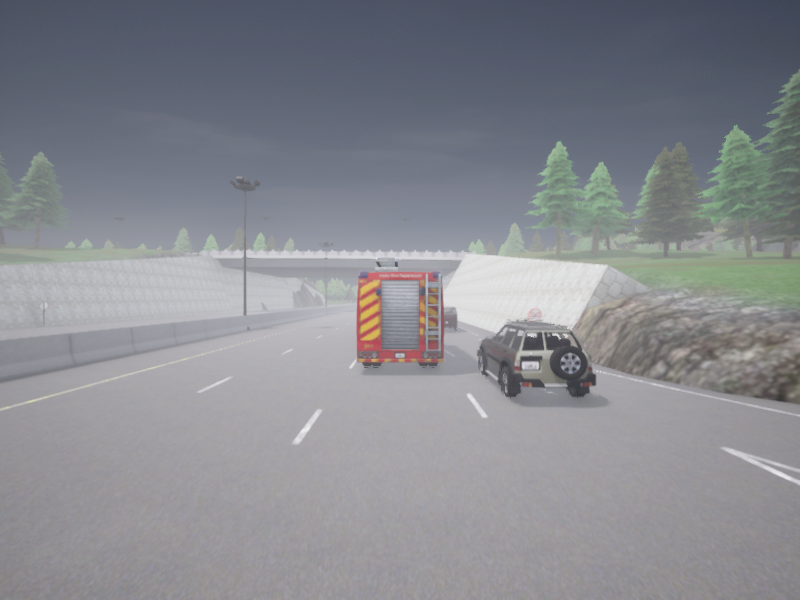vehicle: (357, 257, 443, 365), (477, 319, 595, 397), (444, 305, 457, 330)
